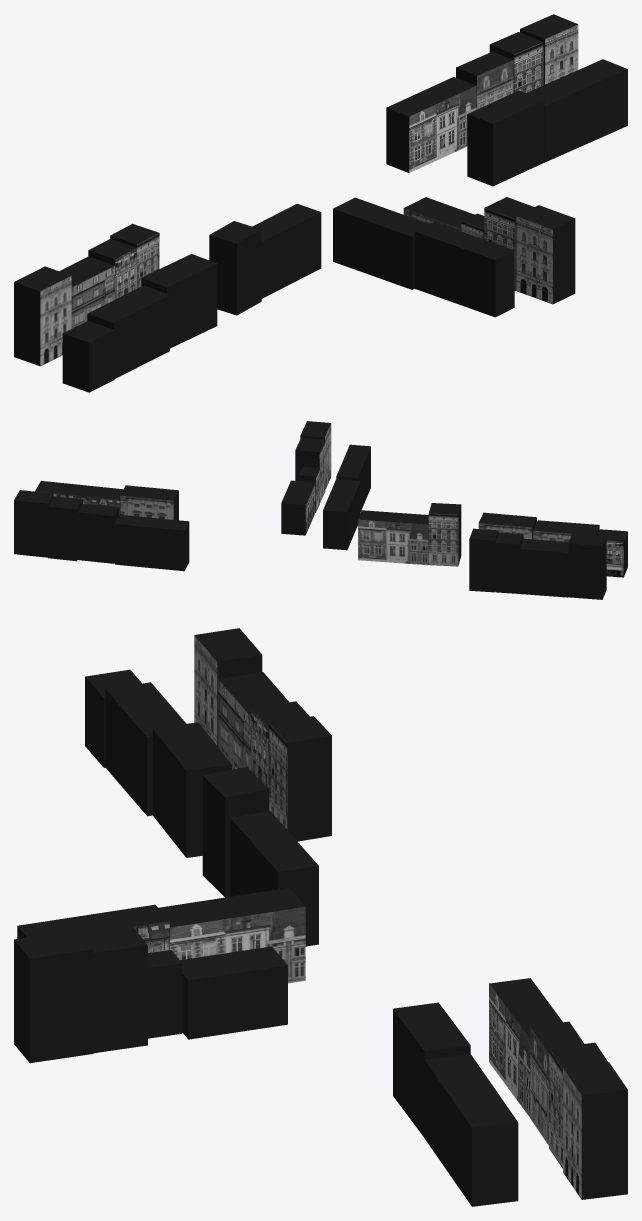
File: JRP_OLD_PLaceholder_temp_buildings.FBX
The picture shows the model from 3 angles, top to bottom: view 1: azimuth 30°, elevation 25°; view 2: azimuth 150°, elevation 25°; view 3: azimuth 270°, elevation 25°; orthographic projection. The views are drawn at different scales.
Parts seen in each view (by area): view 1: G_OLD_placeholder006, G_OLD_placeholder004, I_OLD_placeholder002, A_OLD_placeholder010, I_OLD_placeholder012, A_OLD_placeholder008, I_OLD_placeholder010, C_OLD_placeholder008, A_OLD_placeholder_front, F_OLD_placeholder006, D_OLD_placeholder_front004, D_OLD_placeholder003 (+18 smaller); view 2: A_OLD_placeholder, A_OLD_placeholder_front004, E_OLD_placeholder001, D_OLD_placeholder003, D_OLD_placeholder, A_OLD_placeholder010, B_OLD_placeholder, C_OLD_placeholder, C_OLD_placeholder006, C_OLD_placeholder_front004, F_OLD_placeholder004, I_OLD_placeholder014 (+19 smaller); view 3: G_OLD_placeholder004, D_OLD_placeholder008, I_OLD_placeholder014, I_OLD_placeholder010, C_OLD_placeholder014, A_OLD_placeholder008, D_OLD_placeholder, I_OLD_placeholder012, A_OLD_placeholder_front005, C_OLD_placeholder006, I_OLD_placeholder002, C_OLD_placeholder008 (+19 smaller).
Boxes of the visible parts, bbox=[...] form: G_OLD_placeholder006: bbox=[414, 221, 514, 317]; G_OLD_placeholder004: bbox=[526, 59, 627, 162]; I_OLD_placeholder002: bbox=[467, 90, 544, 186]; A_OLD_placeholder010: bbox=[333, 197, 428, 289]; I_OLD_placeholder012: bbox=[87, 285, 169, 378]; A_OLD_placeholder008: bbox=[252, 203, 321, 298]; I_OLD_placeholder010: bbox=[141, 254, 217, 348]; C_OLD_placeholder008: bbox=[209, 221, 261, 315]; A_OLD_placeholder_front: bbox=[409, 86, 476, 172]; F_OLD_placeholder006: bbox=[62, 320, 114, 392]; D_OLD_placeholder_front004: bbox=[516, 216, 552, 304]; D_OLD_placeholder003: bbox=[14, 266, 70, 365]; A_OLD_placeholder: bbox=[115, 514, 189, 571]; A_OLD_placeholder_front004: bbox=[358, 519, 428, 565]; E_OLD_placeholder001: bbox=[519, 538, 568, 597]; D_OLD_placeholder003: bbox=[568, 533, 606, 599]; D_OLD_placeholder: bbox=[14, 490, 53, 557]; A_OLD_placeholder010: bbox=[323, 479, 360, 550]; B_OLD_placeholder: bbox=[77, 504, 119, 563]; C_OLD_placeholder: bbox=[48, 496, 82, 561]; C_OLD_placeholder006: bbox=[469, 528, 498, 592]; C_OLD_placeholder_front004: bbox=[428, 513, 458, 566]; F_OLD_placeholder004: bbox=[495, 532, 523, 593]; I_OLD_placeholder014: bbox=[281, 480, 315, 535]; G_OLD_placeholder004: bbox=[424, 1054, 518, 1206]; D_OLD_placeholder008: bbox=[14, 930, 93, 1063]; I_OLD_placeholder014: bbox=[180, 946, 287, 1039]; I_OLD_placeholder010: bbox=[153, 722, 231, 857]; C_OLD_placeholder014: bbox=[80, 926, 147, 1053]; A_OLD_placeholder008: bbox=[230, 811, 318, 946]; D_OLD_placeholder: bbox=[563, 1062, 627, 1199]; I_OLD_placeholder012: bbox=[105, 682, 186, 816]; A_OLD_placeholder_front005: bbox=[170, 907, 305, 983]; C_OLD_placeholder006: bbox=[269, 716, 331, 841]; I_OLD_placeholder002: bbox=[393, 1002, 470, 1137]; C_OLD_placeholder008: bbox=[202, 767, 269, 897].
Bounding box in the file's own units: 23332 × 2400 × 12768.
Materials: 9 (8 with a texture image).
